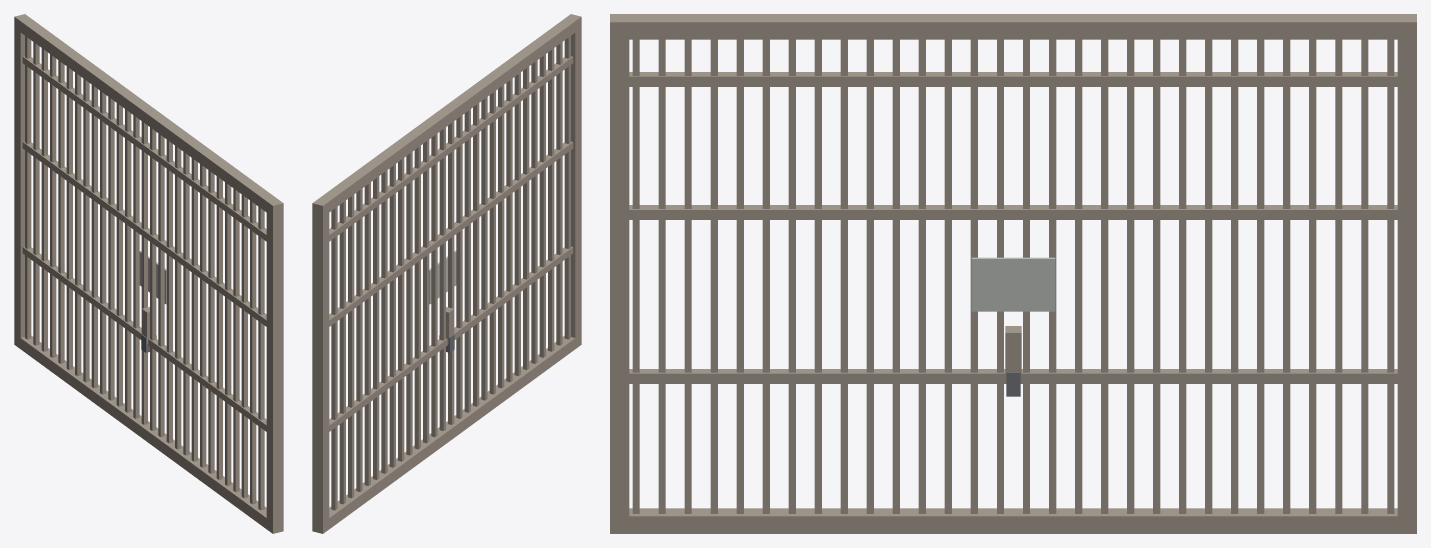
The model's file is grade_ab17545285.gltf.
The picture shows the model from 3 angles, left to right: view 1: azimuth 30°, elevation 25°; view 2: azimuth 150°, elevation 25°; view 3: azimuth 270°, elevation 25°; orthographic projection. The views are drawn at different scales.
Visible parts, largest first — view 1: grade_ab17545285; view 2: grade_ab17545285; view 3: grade_ab17545285.
Boxes of the visible parts, x1,y1,x2,y2 form: grade_ab17545285: (14,14,283,533); grade_ab17545285: (312,14,581,533); grade_ab17545285: (610,14,1416,533).
Size of the model in its own units: 0.12 by 3.5 by 5.
